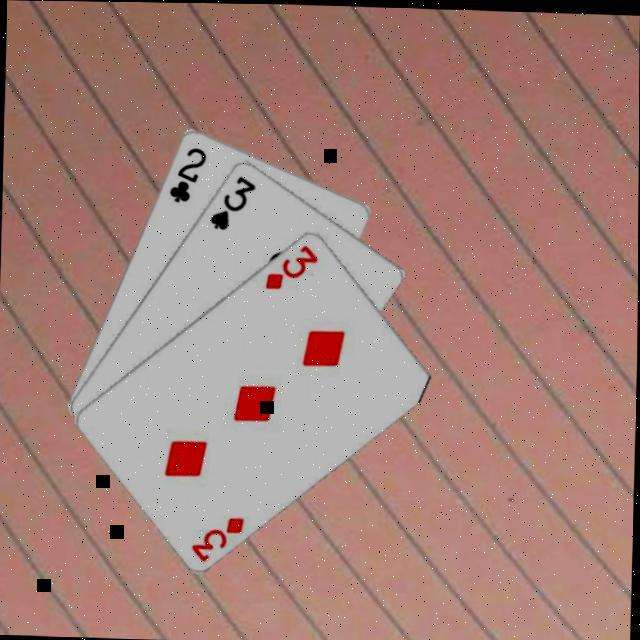2C: (164, 143, 206, 206)
3D: (260, 240, 319, 294), (187, 513, 246, 566)
3S: (205, 172, 256, 234)
